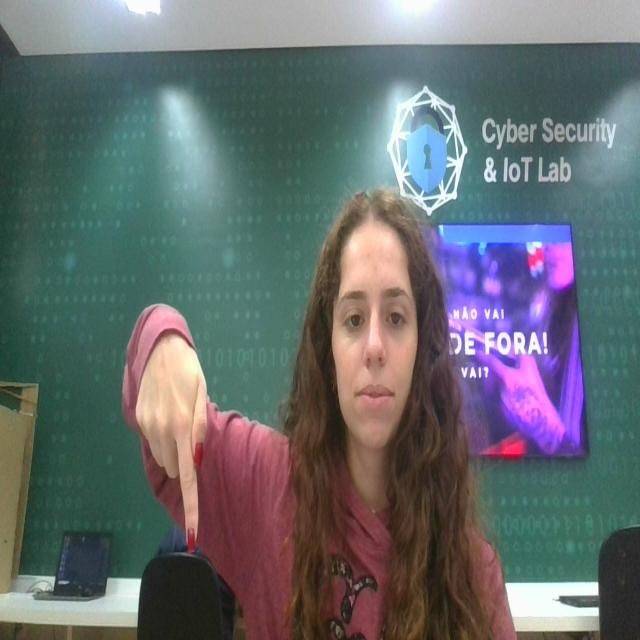Q: (138, 306, 222, 558)
